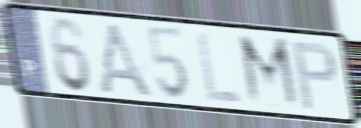5: (145, 24, 191, 104)
6: (47, 13, 94, 95)
A: (95, 19, 158, 101)
L: (194, 29, 244, 106)
M: (235, 32, 305, 113)
P: (289, 39, 340, 112)
